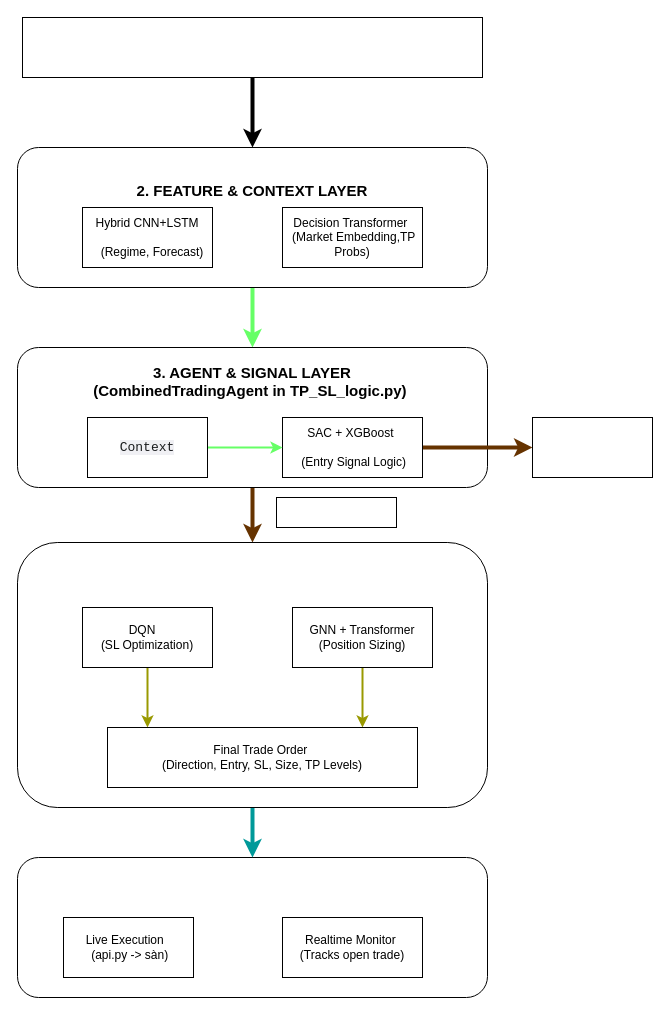
Some shapes in this 670 by 1015 pixel diagram are drawn without their labels. Each missing label, with the box of its shape:
1. DATA LAYER (APIs: Binance, FMP, AV): (22, 16, 482, 78)
4. RISK & EXECUTION LAYER: (16, 542, 488, 808)
5. MONITORING LAYER: (16, 856, 488, 998)
IF NO SIGNAL: STOP: (532, 416, 652, 478)
IF SIGNAL: (276, 496, 396, 528)
